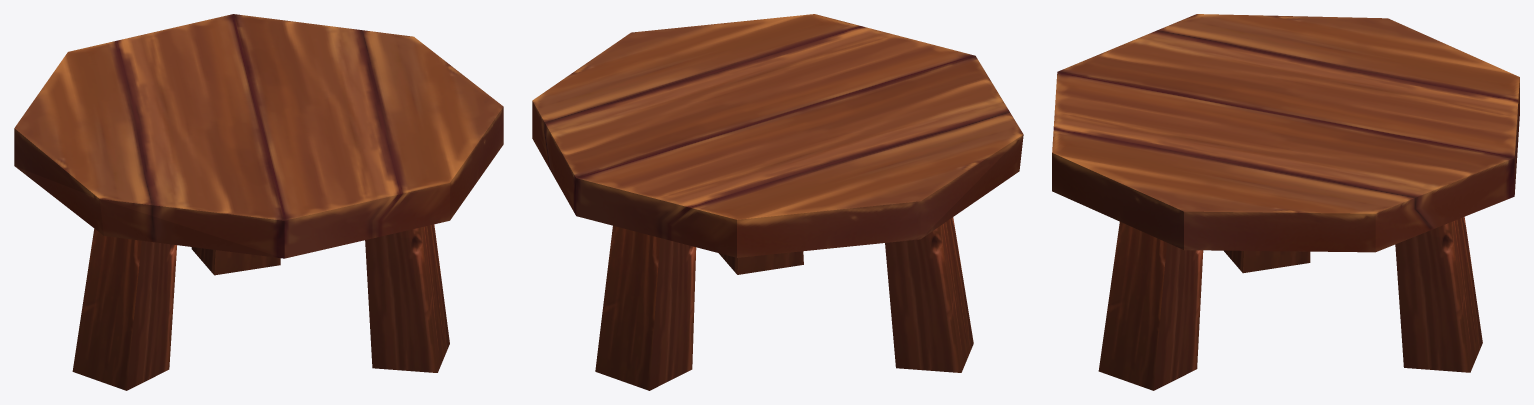
Rendered from YiZi01.FBX.
3 renders of one model, left to right at view 1: azimuth 30°, elevation 25°; view 2: azimuth 150°, elevation 25°; view 3: azimuth 270°, elevation 25°, orthographic.
Parts seen in each view (by area): view 1: YiZi01; view 2: YiZi01; view 3: YiZi01.
Part boxes in pixels (left/top/right/bottom): YiZi01: left=14, top=14, right=503, bottom=390; YiZi01: left=532, top=14, right=1023, bottom=390; YiZi01: left=1052, top=14, right=1519, bottom=390.
Size of the model in its own units: 37.32 by 18.59 by 36.92.
